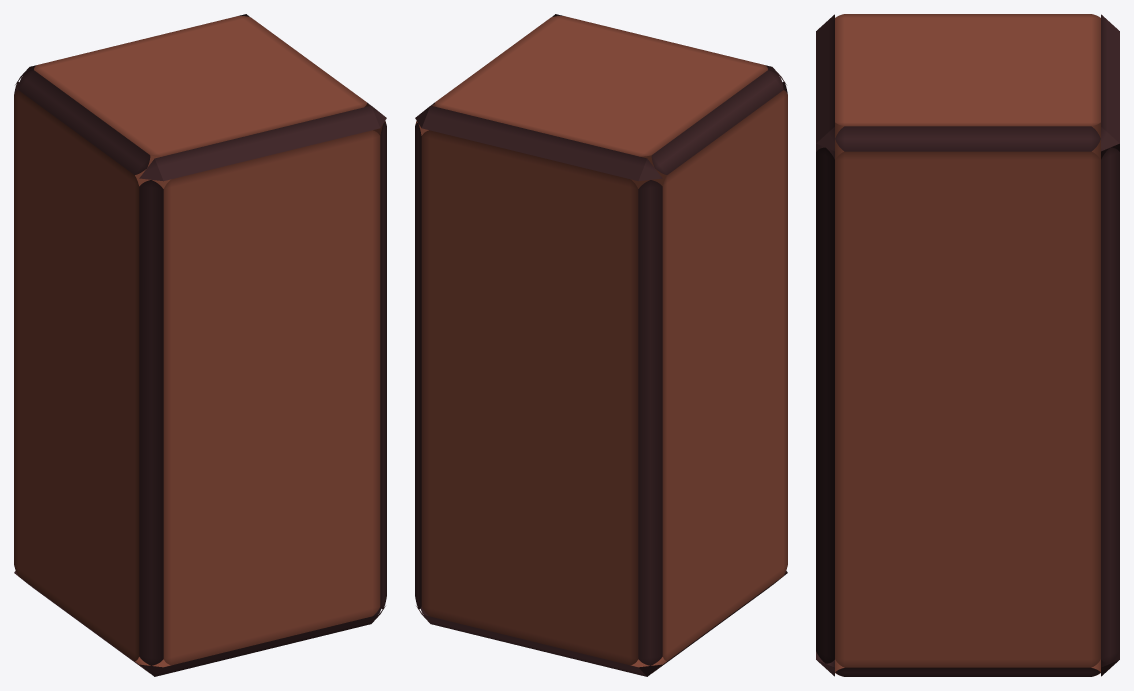
3 views of the same model, side by side, from view 1: azimuth 30°, elevation 25°; view 2: azimuth 150°, elevation 25°; view 3: azimuth 270°, elevation 25° (orthographic). The views are drawn at different scales.
Parts seen in each view (by area): view 1: cuboid; view 2: cuboid; view 3: cuboid.
Part boxes in pixels (x1,y1,x2,y2): cuboid: (14,14,386,676); cuboid: (415,14,787,676); cuboid: (816,14,1119,676).
Size of the model in its own units: 100 by 200 by 100.
Materials: 1 (1 with a texture image).
